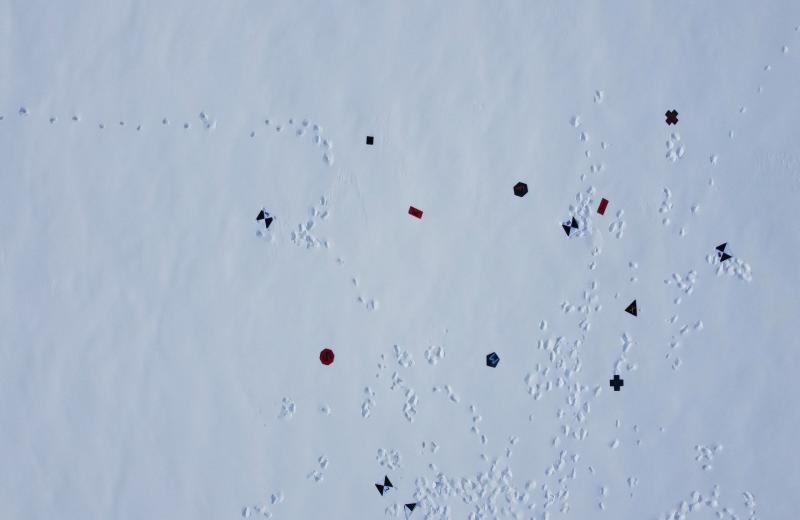Cross: (610, 374, 625, 393), (664, 108, 679, 125)
Hexagon: (513, 180, 529, 198)
Octagon: (318, 346, 335, 366)
Pentagon: (485, 350, 500, 369)
Rectangle: (595, 197, 610, 217), (408, 204, 424, 220)
Square: (365, 134, 374, 146)
Triangle: (624, 297, 640, 317)
